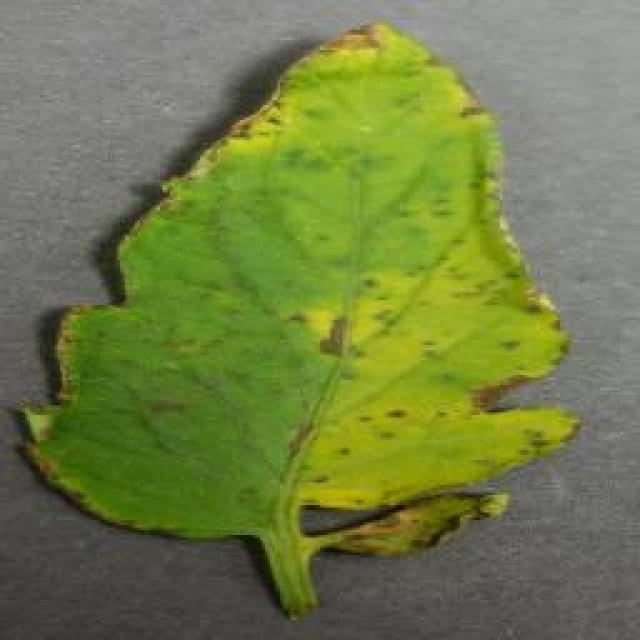Tomato___Bacterial_spot: (12, 17, 590, 621)
